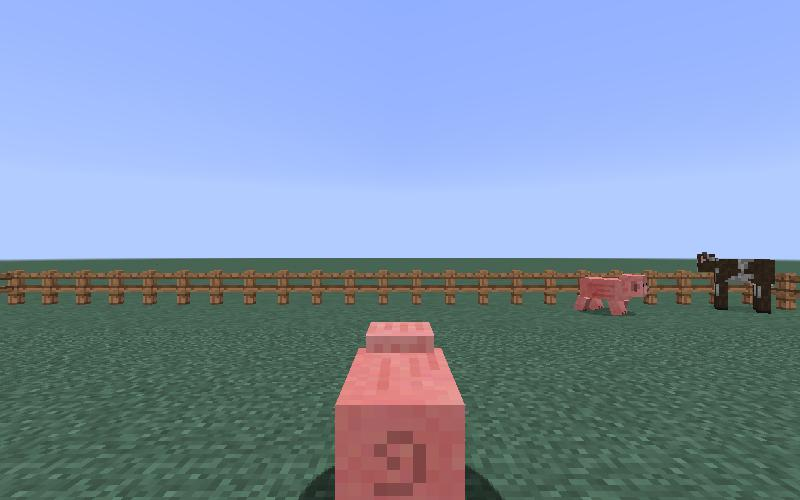cow: (695, 253, 777, 313)
pig: (334, 320, 467, 500), (575, 275, 648, 317)
